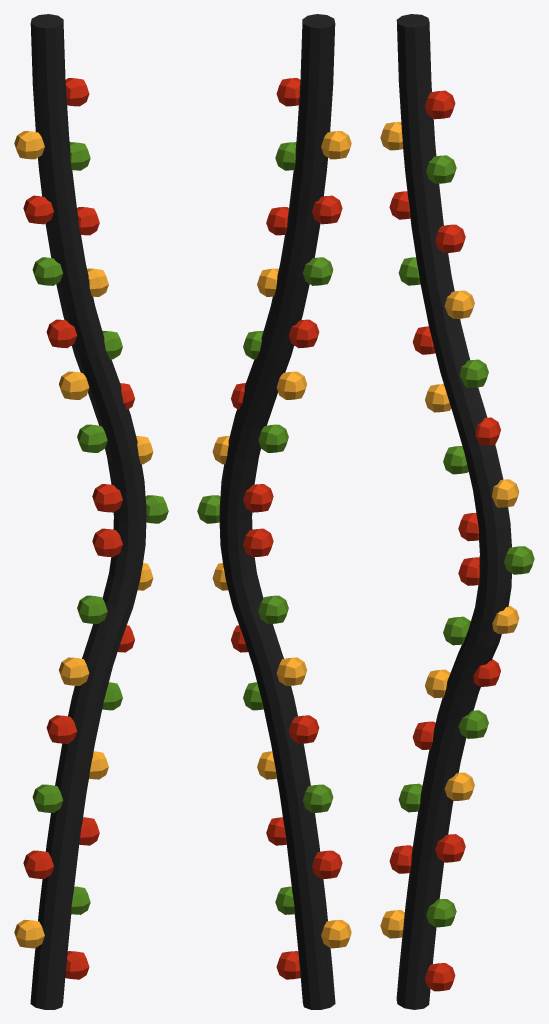
Rendered from Girland.fbx.
The picture shows the model from 3 angles, left to right: view 1: azimuth 30°, elevation 25°; view 2: azimuth 150°, elevation 25°; view 3: azimuth 330°, elevation 25°; orthographic projection.
Parts seen in each view (by area): view 1: NurbsPath; view 2: NurbsPath; view 3: NurbsPath.
Boxes of the visible parts, x1,y1,x2,y2 form: NurbsPath: (14, 14, 168, 1009); NurbsPath: (197, 14, 351, 1009); NurbsPath: (380, 14, 534, 1009).
Bounding box in the file's own units: 27.01 × 169 × 5.21.
